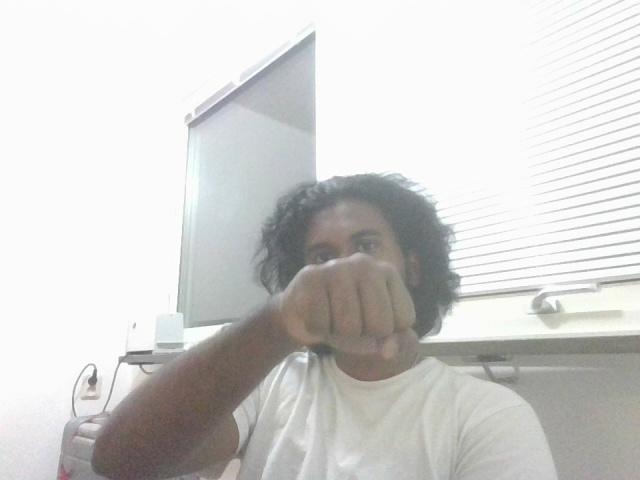Yes: (286, 251, 442, 367)
